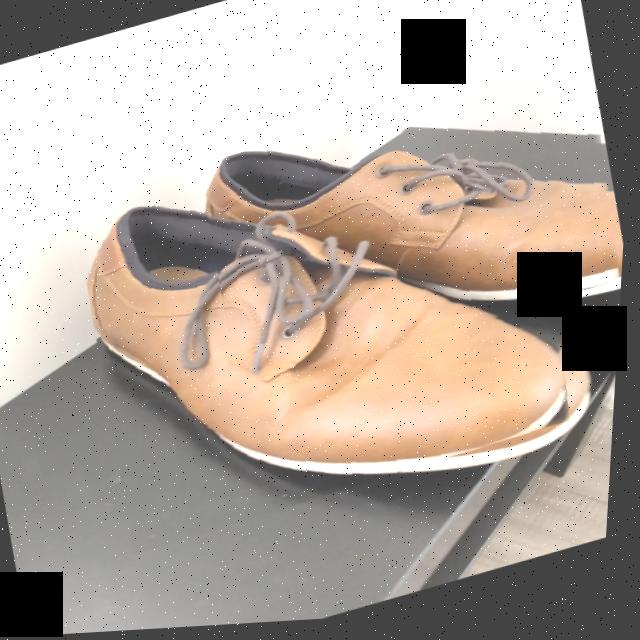shoe: (90, 209, 576, 473), (207, 153, 623, 307)
